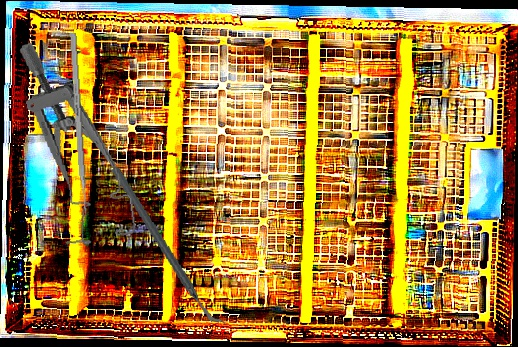Chopper: (109, 154, 227, 339)
Pusher: (69, 32, 90, 227)
Speculum: (17, 30, 138, 253)
